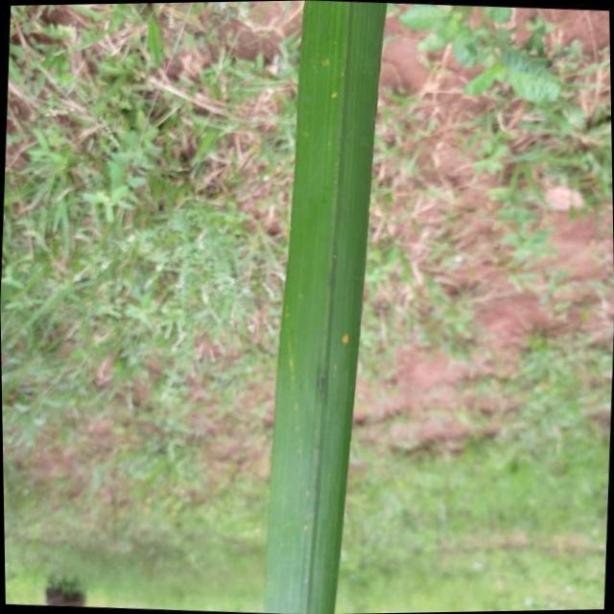Kalium: (261, 0, 387, 614)
